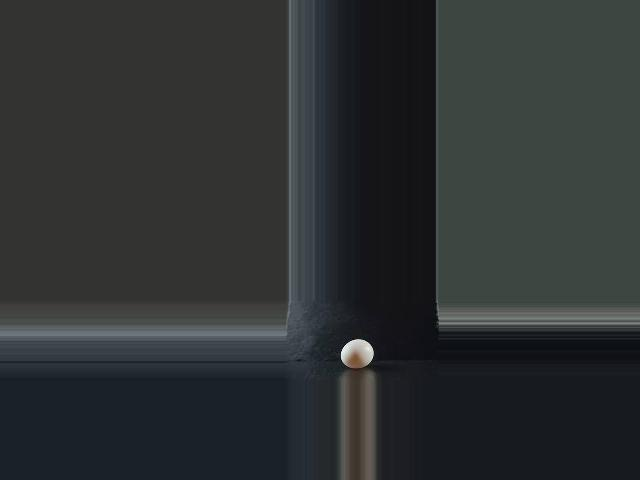egg: (340, 338, 373, 368)
